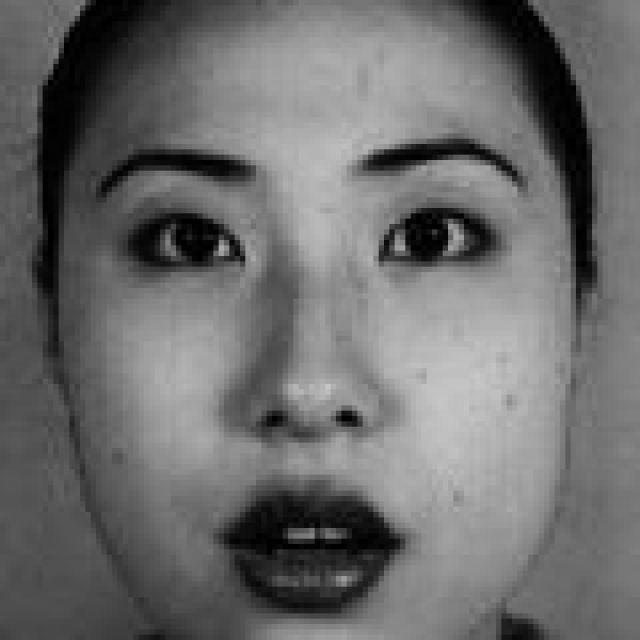surprise: (89, 47, 582, 640)
